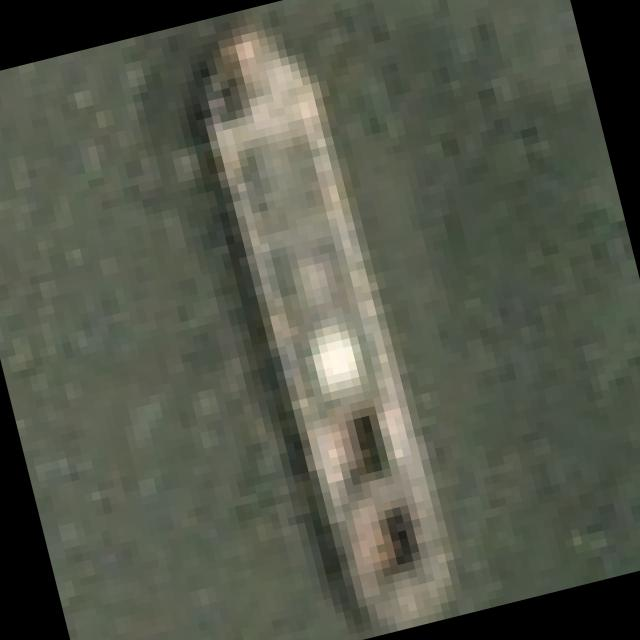ship: (85, 0, 535, 640)
